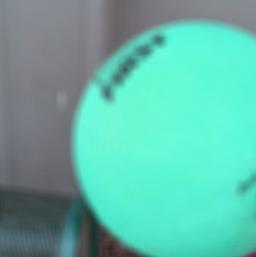algae: (77, 21, 256, 257)
